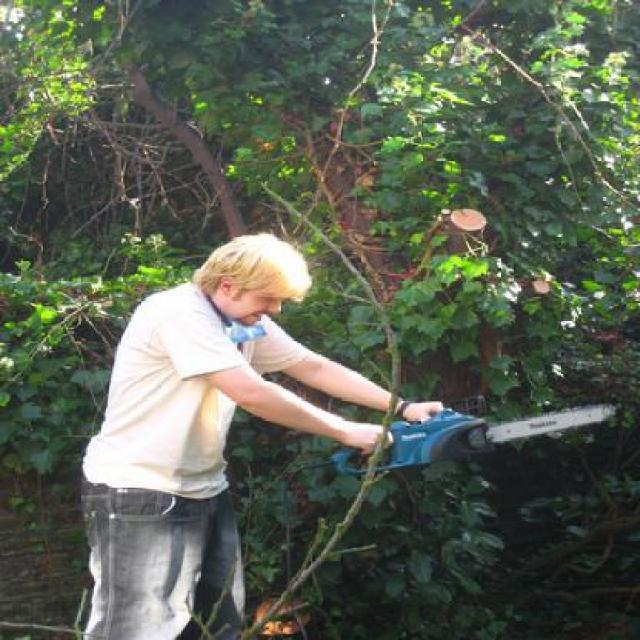Chainsaw: (349, 389, 620, 480)
